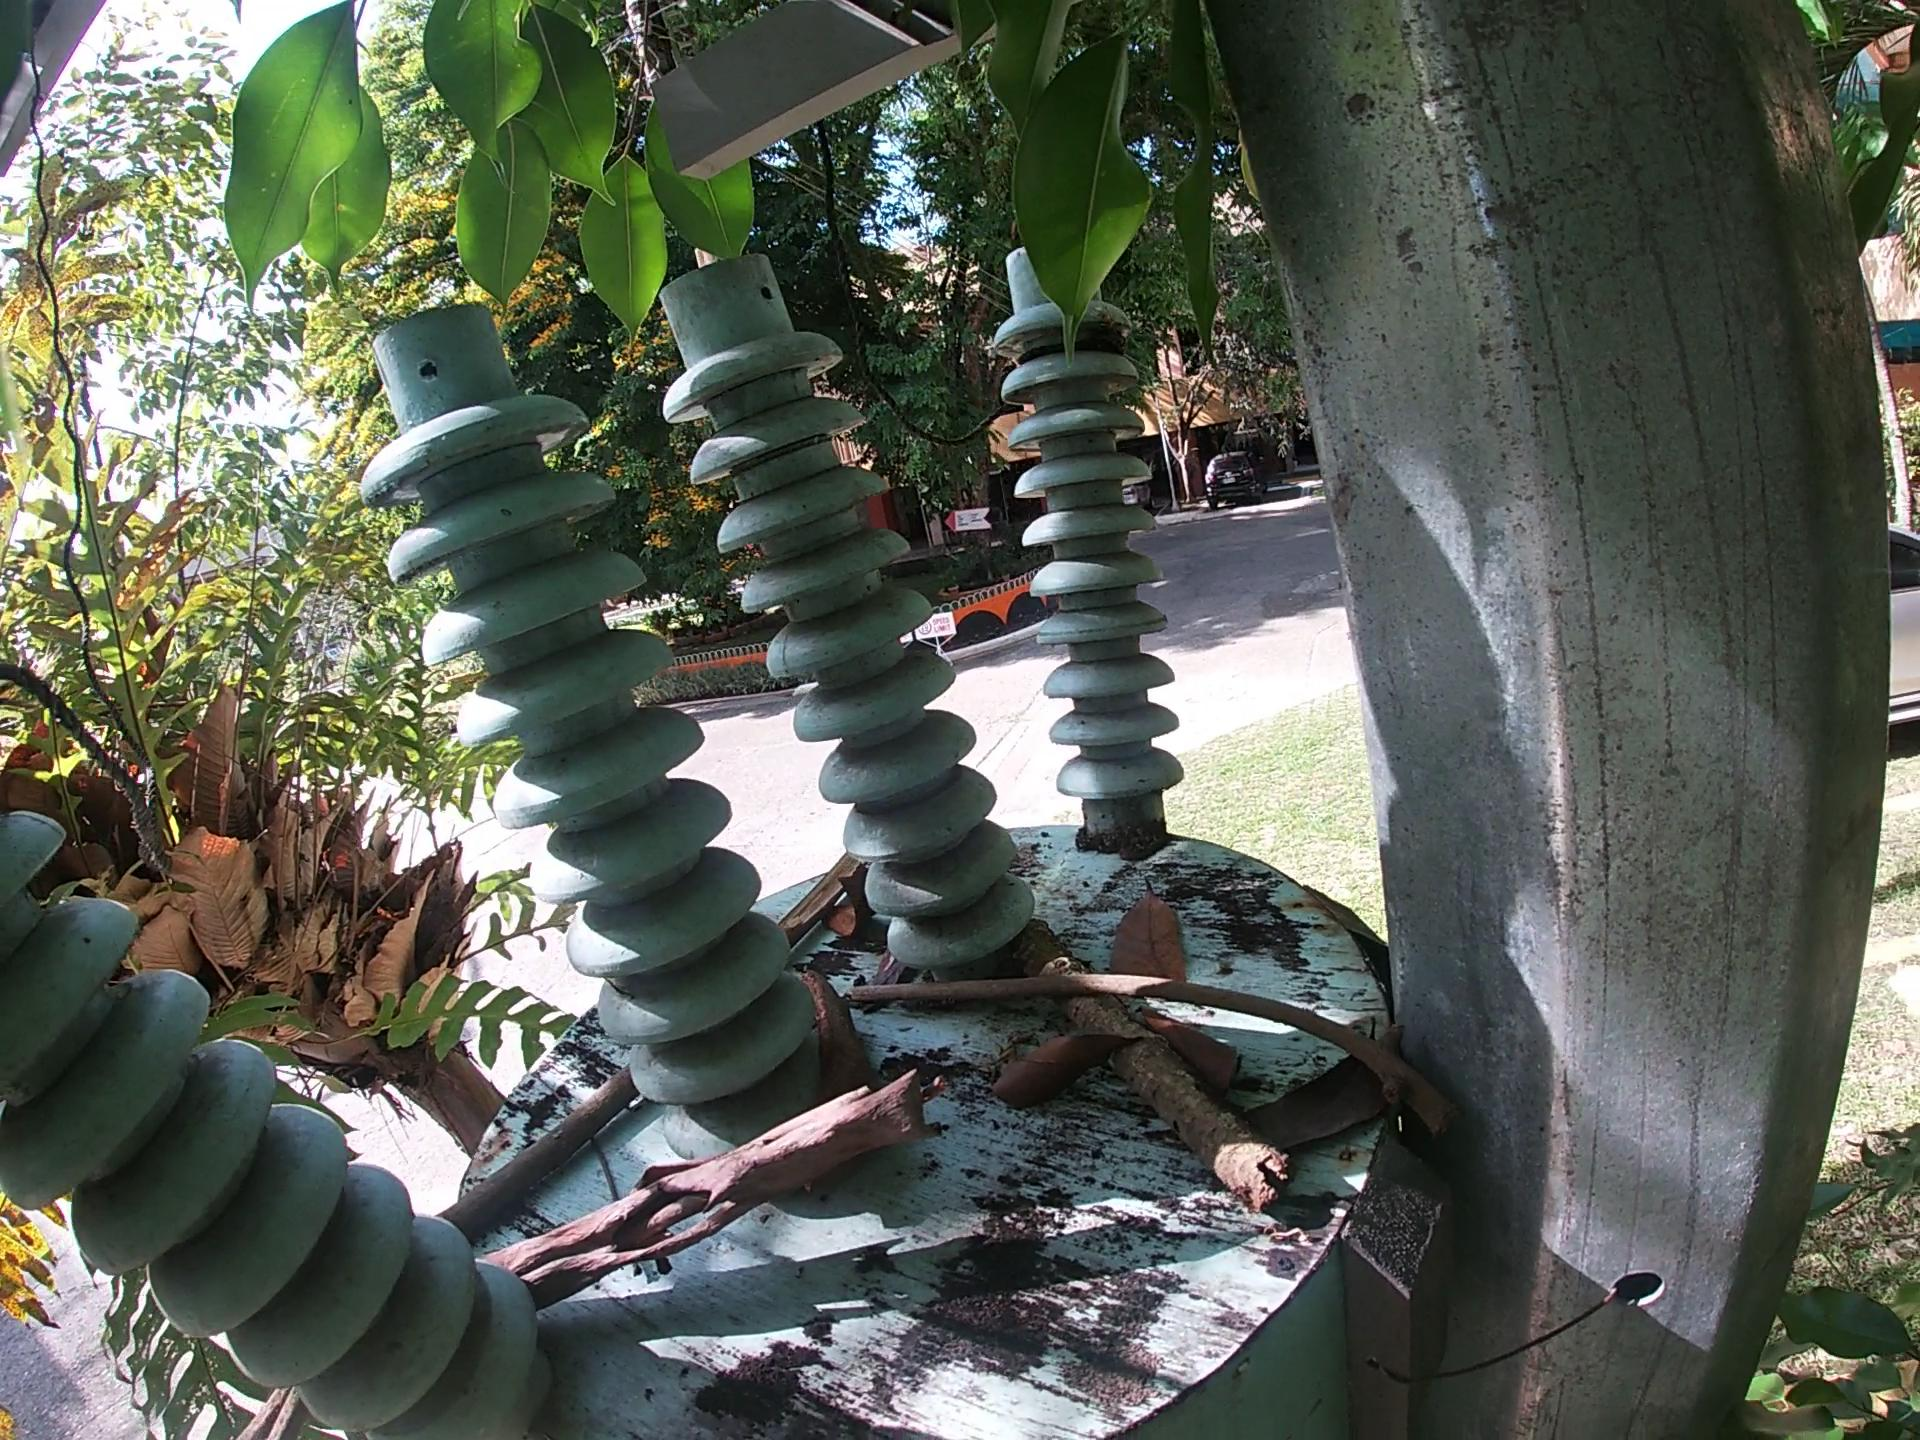leaf: (1249, 1030, 1445, 1141), (1011, 1021, 1125, 1098), (1107, 882, 1191, 971), (1166, 1010, 1250, 1094)
mahogany fruit: (794, 965, 875, 1091), (822, 867, 890, 965)
tree branch: (472, 1063, 946, 1307), (862, 985, 1483, 1144), (1030, 930, 1324, 1237), (437, 1082, 630, 1230), (777, 817, 866, 945), (254, 1383, 317, 1440), (581, 1125, 606, 1186)
